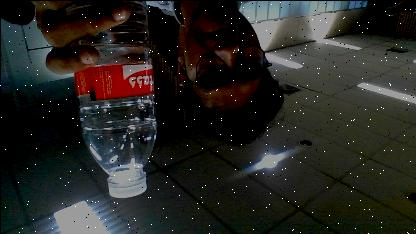Plastic Bottle: (72, 0, 156, 196)
